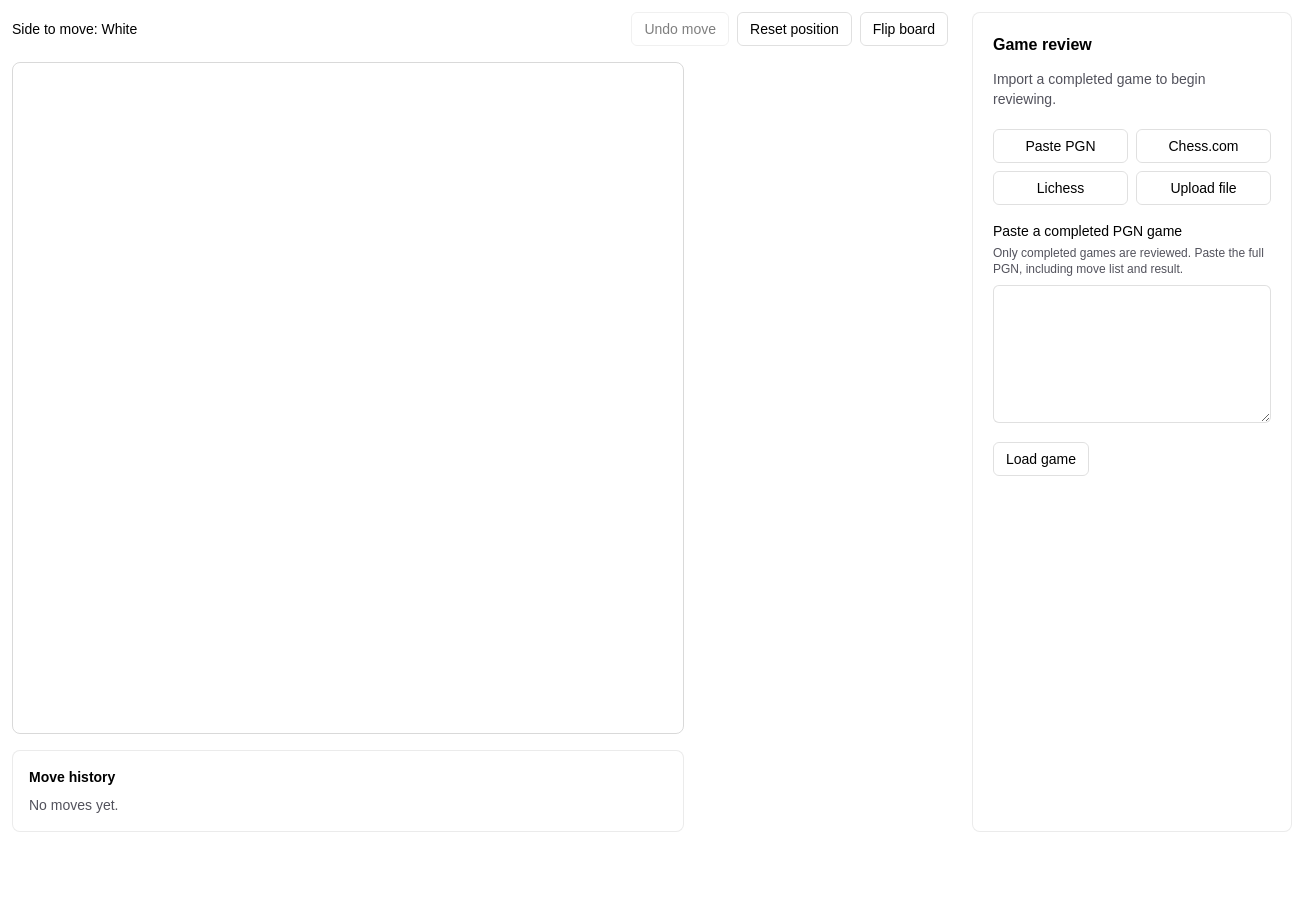
Test: ReviewWorkspace › shows the sanitized empty-input failure
The image size is (1292, 912).
Click the button "Load game" at {"x": 1041, "y": 459}, box [993,442,1089,476]
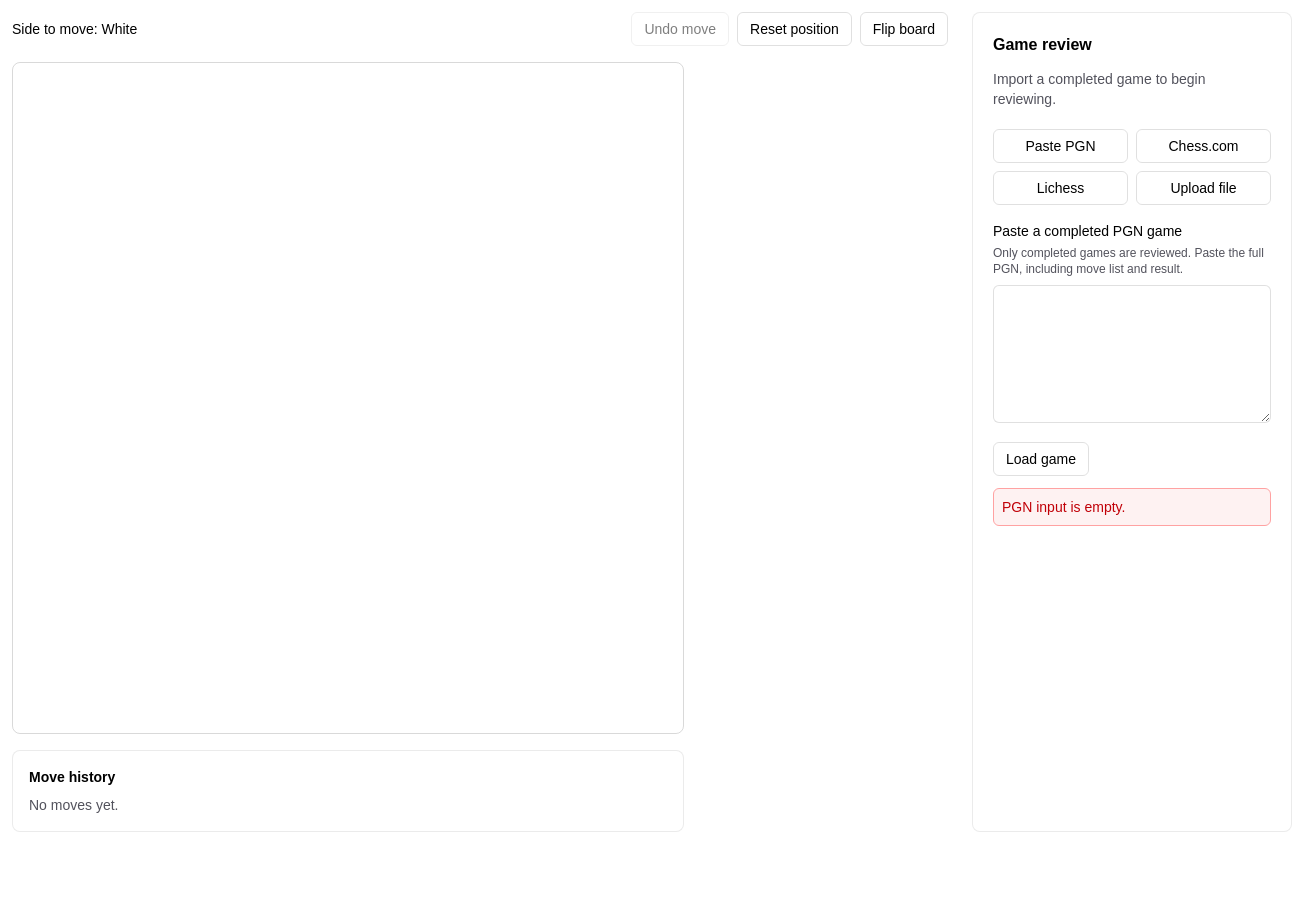
Check: the message reads "PGN input is empty.", box [1002,499,1126,515]
